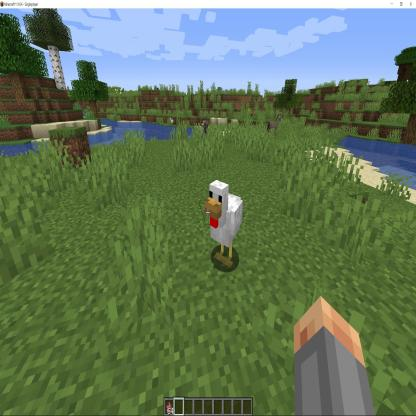minecraft-pigs: (203, 179, 245, 275), (169, 115, 174, 125)
